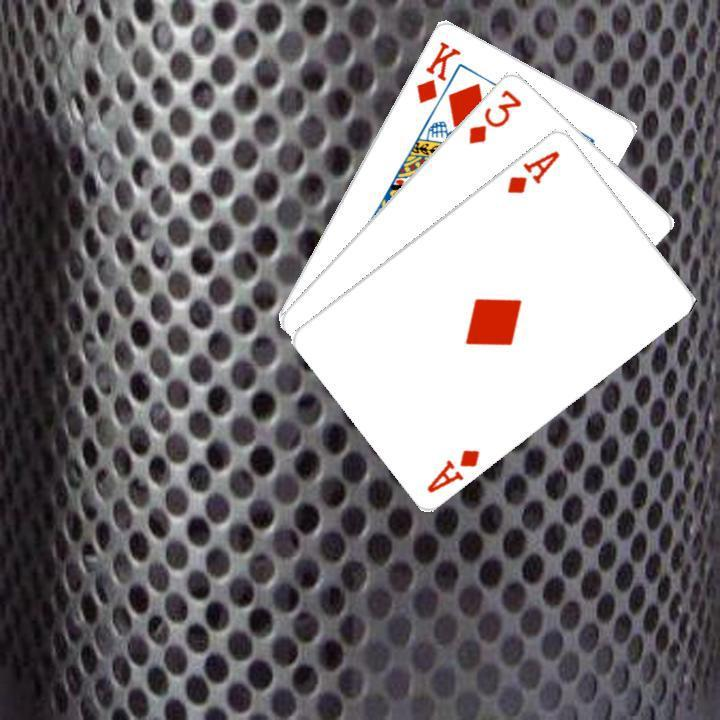3: (464, 84, 524, 146)
A: (502, 145, 562, 196), (422, 444, 482, 495)
K: (411, 36, 463, 105)
